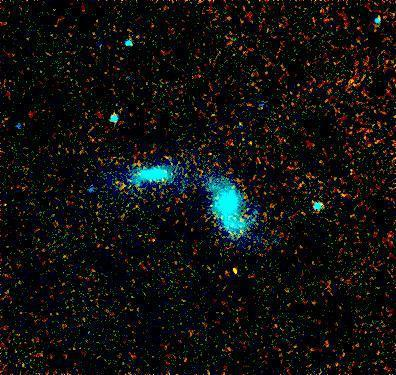star: (210, 255, 240, 285)
